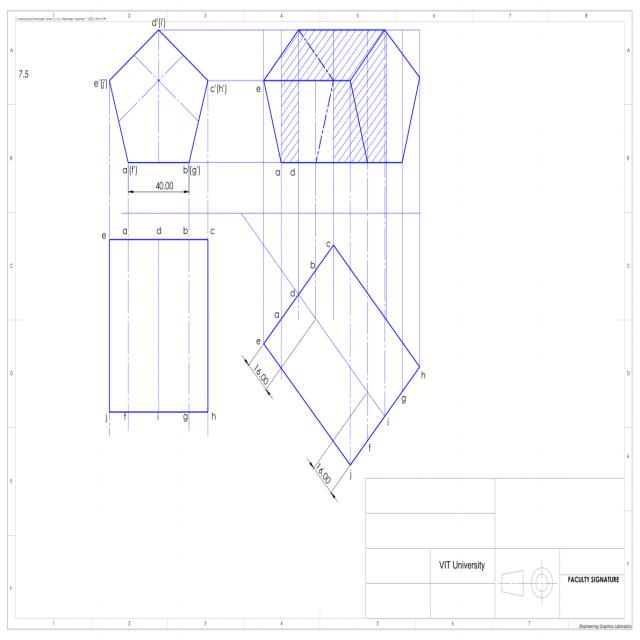Drawings: (84, 15, 431, 482)
